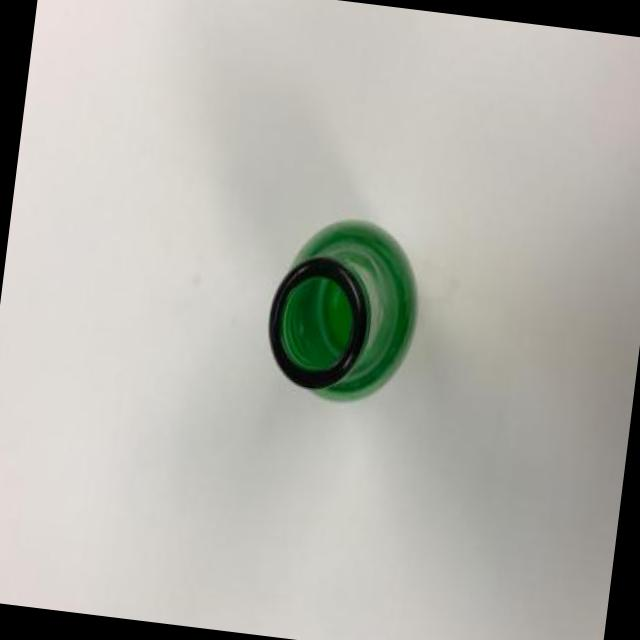chai_thuy_tinh: (269, 220, 417, 400)
